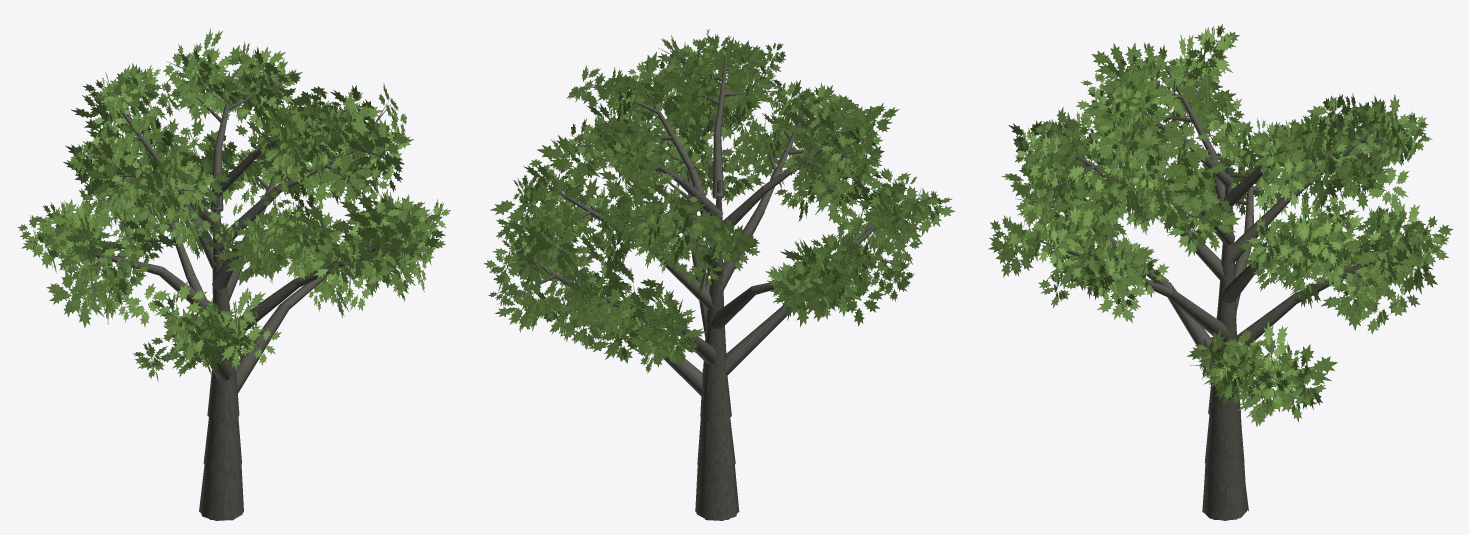
File: maple-18531.glb
3 renders of one model, left to right at view 1: azimuth 30°, elevation 25°; view 2: azimuth 150°, elevation 25°; view 3: azimuth 270°, elevation 25°, orthographic. The views are drawn at different scales.
Parts seen in each view (by area): view 1: near_leaves, far_leaves, near_bark, far_bark, near_winter; view 2: near_leaves, far_leaves, near_bark, far_bark, near_winter; view 3: near_leaves, far_leaves, near_bark, far_bark, near_winter.
Part boxes in pixels (left/top/right/bottom): near_leaves: left=18, top=37, right=450, bottom=381; far_leaves: left=21, top=28, right=443, bottom=376; near_bark: left=74, top=73, right=411, bottom=520; far_bark: left=73, top=74, right=400, bottom=520; near_winter: left=45, top=53, right=431, bottom=358; near_leaves: left=483, top=29, right=951, bottom=373; far_leaves: left=490, top=34, right=954, bottom=364; near_bark: left=516, top=57, right=896, bottom=520; far_bark: left=516, top=57, right=873, bottom=519; near_winter: left=497, top=48, right=937, bottom=359; near_leaves: left=989, top=24, right=1453, bottom=421; far_leaves: left=988, top=27, right=1437, bottom=426; near_bark: left=1043, top=70, right=1397, bottom=520; far_bark: left=1043, top=70, right=1378, bottom=519; near_winter: left=1015, top=57, right=1411, bottom=395.
Size of the model in its own units: 8.9 by 9.68 by 9.03.
Materials: 2 (2 with a texture image).
